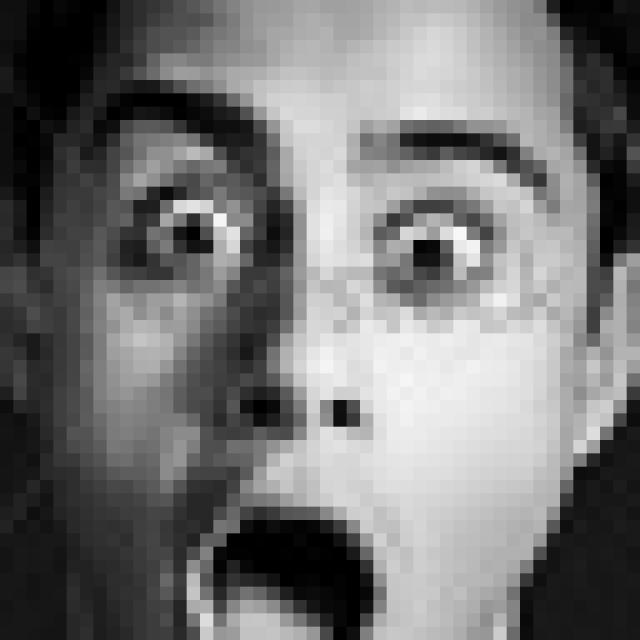surprise: (76, 80, 567, 640)
